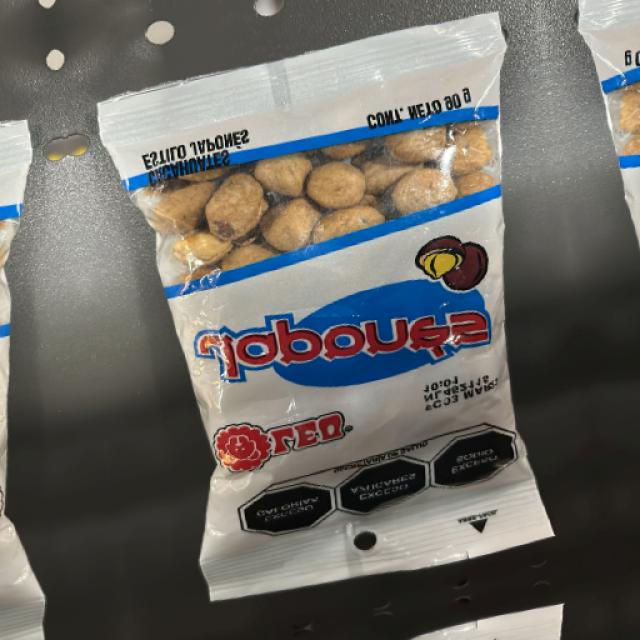leoCacahuates: (193, 79, 517, 555)
